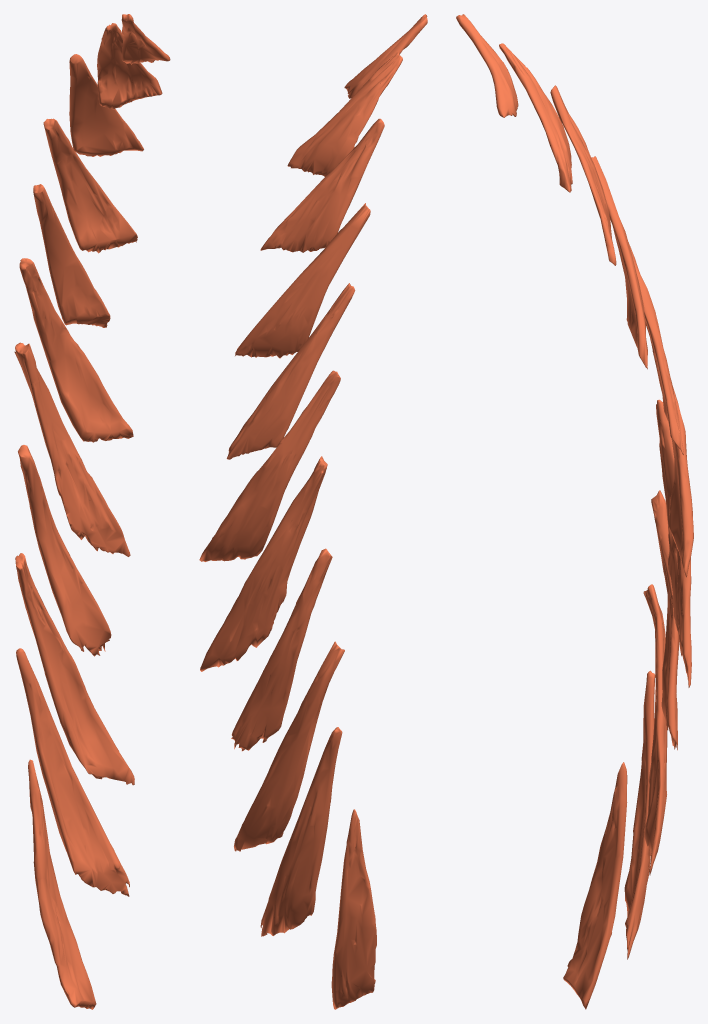
File: Levatores_longi_costarum.l_Generated_Mesh_From_X3D.384.glb
The picture shows the model from 3 angles, left to right: view 1: azimuth 30°, elevation 25°; view 2: azimuth 150°, elevation 25°; view 3: azimuth 270°, elevation 25°; orthographic projection. The views are drawn at different scales.
Visible parts, largest first — view 1: Levatores_longi_costarum.l_Generated_Mesh_From_X3D.384; view 2: Levatores_longi_costarum.l_Generated_Mesh_From_X3D.384; view 3: Levatores_longi_costarum.l_Generated_Mesh_From_X3D.384.
Part boxes in pixels (x1=…): Levatores_longi_costarum.l_Generated_Mesh_From_X3D.384: x1=14, y1=14, x2=170, y2=1009; Levatores_longi_costarum.l_Generated_Mesh_From_X3D.384: x1=199, y1=14, x2=427, y2=1009; Levatores_longi_costarum.l_Generated_Mesh_From_X3D.384: x1=456, y1=14, x2=693, y2=1009.
Size of the model in its own units: 0.0472 by 0.3298 by 0.0725.
